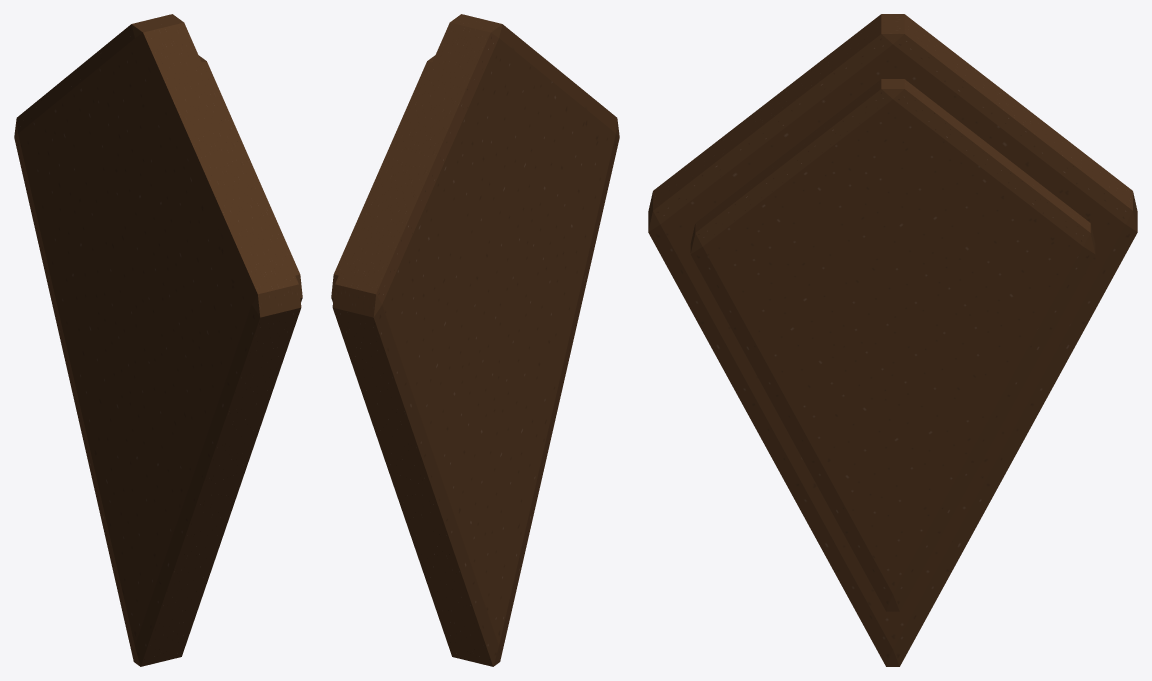
File: swordPlaque.fbx
The picture shows the model from 3 angles, left to right: view 1: azimuth 30°, elevation 25°; view 2: azimuth 150°, elevation 25°; view 3: azimuth 270°, elevation 25°; orthographic projection.
Visible parts, largest first — view 1: Cube; view 2: Cube; view 3: Cube.
Part boxes in pixels (bbox=[...]): Cube: bbox=[14, 14, 302, 666]; Cube: bbox=[331, 14, 619, 666]; Cube: bbox=[648, 14, 1137, 666].
Size of the model in its own units: 77.2 by 686 by 481.
